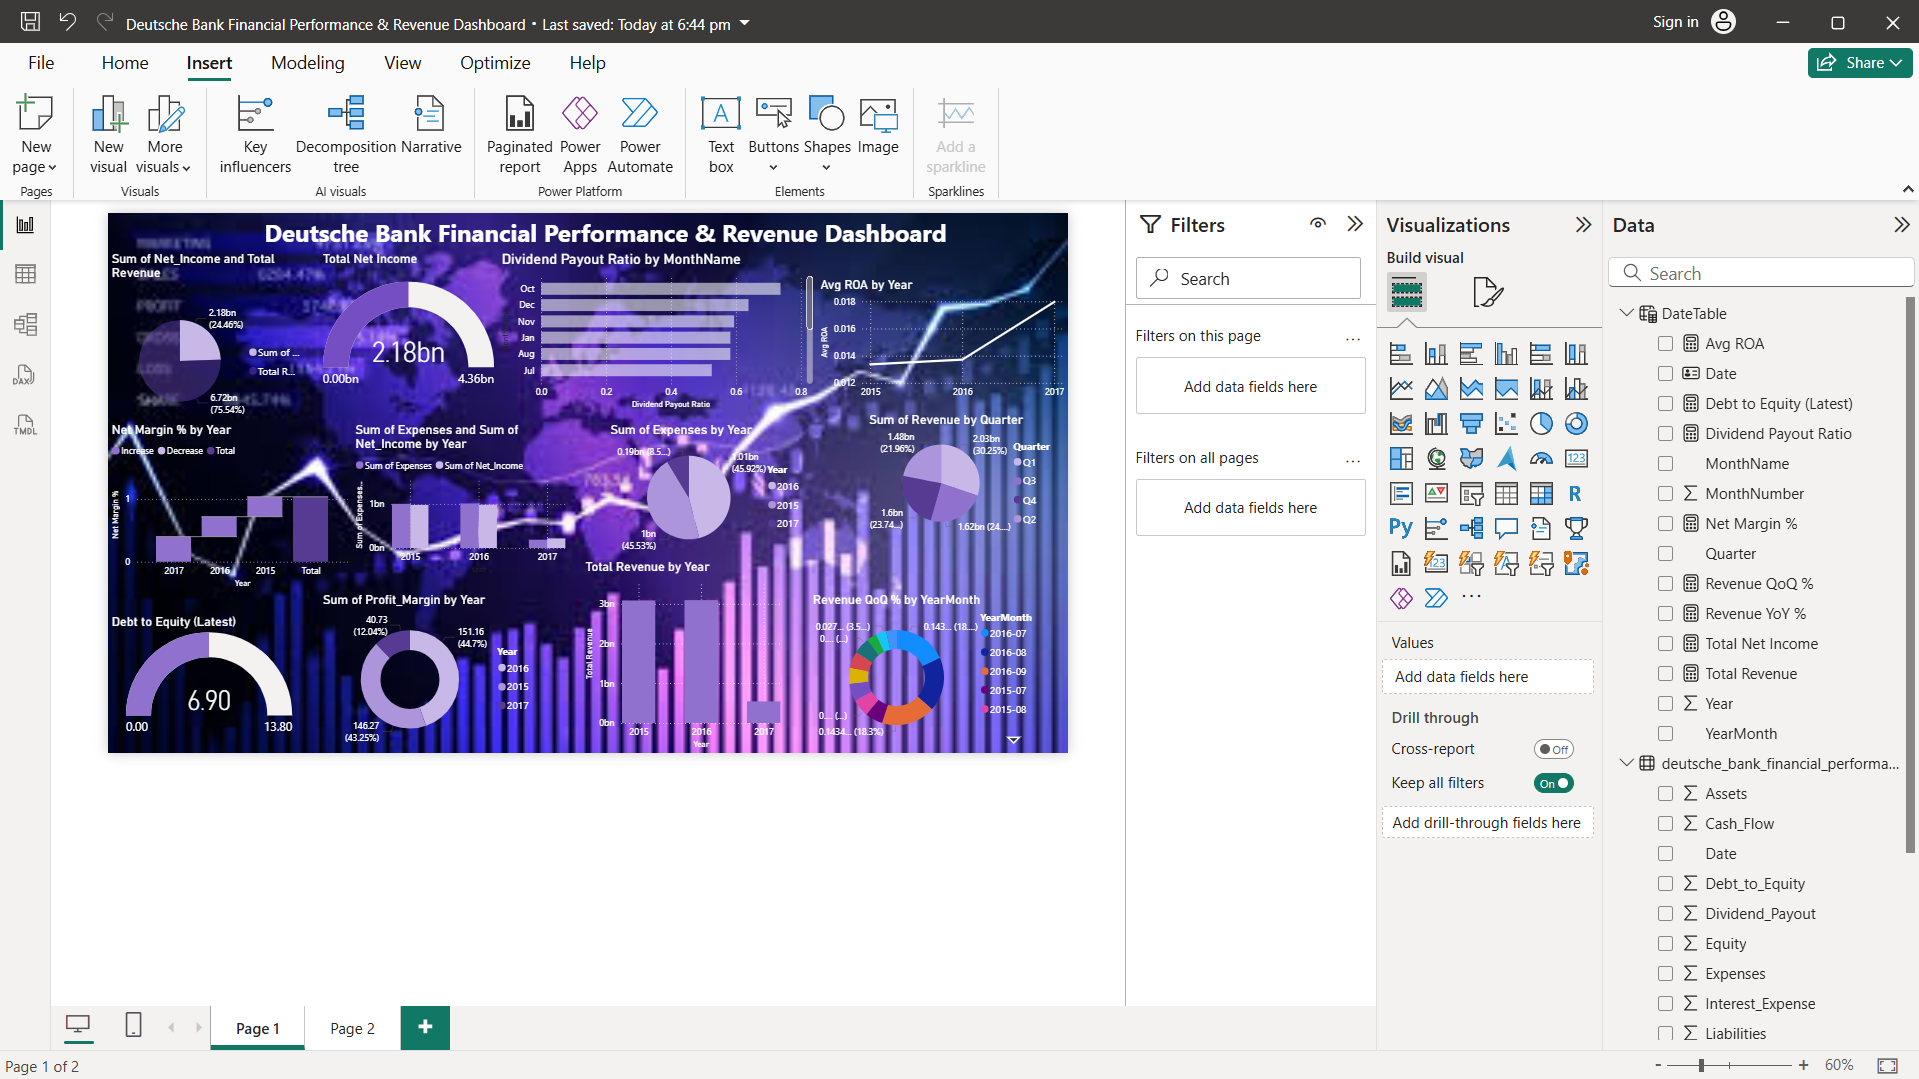

Layout of this report page (visuals, bound fields, positions):
{"tool":"powerbi","page":{"name":"Page 1","canvas":[1280,720],"ordinal":0},"visuals":[{"type":"donutChart","fields":{"Y":["DateTable.Revenue QoQ %"],"Category":["DateTable.YearMonth"]},"box":[935,505,320,210],"z":0},{"type":"pieChart","fields":{"Category":["deutsche_bank_financial_performance.Year"],"Y":["Sum(deutsche_bank_financial_performance.Expenses)"]},"box":[665,278.3,270,183.3],"z":1000},{"type":"pieChart","fields":{"Y":["Sum(deutsche_bank_financial_performance.Net_Income)","DateTable.Total Revenue"]},"box":[0,50,270,256.7],"z":2000},{"type":"pieChart","fields":{"Y":["Sum(deutsche_bank_financial_performance.Revenue)"],"Category":["DateTable.Quarter"]},"box":[1010,265,270,171.7],"z":3000},{"type":"waterfallChart","fields":{"Category":["deutsche_bank_financial_performance.Year"],"Y":["DateTable.Net Margin %"]},"box":[0,278.3,325,226.7],"z":4000},{"type":"gauge","fields":{"Y":["DateTable.Debt to Equity (Latest)"]},"box":[0,535,270,171.7],"z":5000},{"type":"barChart","fields":{"Y":["DateTable.Dividend Payout Ratio"],"Category":["DateTable.MonthName"]},"box":[520,50,425,216.7],"z":6000},{"type":"clusteredColumnChart","fields":{"Category":["deutsche_bank_financial_performance.Year"],"Y":["DateTable.Total Revenue"]},"box":[631.7,461.7,270,258.3],"z":7000},{"type":"lineChart","fields":{"Category":["deutsche_bank_financial_performance.Year"],"Y":["DateTable.Avg ROA"]},"box":[945,85,335,171.7],"z":8000},{"type":"gauge","fields":{"Y":["DateTable.Total Net Income"]},"box":[281.7,50,238.3,210],"z":9000},{"type":"donutChart","fields":{"Y":["Sum(deutsche_bank_financial_performance.Profit_Margin)"],"Category":["deutsche_bank_financial_performance.Year"]},"box":[281.7,505,293.3,215],"z":10000},{"type":"clusteredColumnChart","fields":{"Category":["deutsche_bank_financial_performance.Year"],"Y":["Sum(deutsche_bank_financial_performance.Expenses)","Sum(deutsche_bank_financial_performance.Net_Income)"]},"box":[325,278.3,290,208.3],"z":11000},{"type":"textbox","box":[163.3,0,1043.3,70],"z":11001}]}

Visuals, with their boxes on the page's 1280x720 design canvas (x1, y1, x2, y2). These are canvas units, not pixel positions in the 1919x1079 screenshot, which may show the page scaled, cropped or inside an application window:
donutChart - DateTable.Revenue QoQ % x DateTable.YearMonth: 935:505:1255:715
pieChart - deutsche_bank_financial_performance.Year x Sum(deutsche_bank_financial_performance.Expenses): 665:278:935:462
pieChart - Sum(deutsche_bank_financial_performance.Net_Income) x DateTable.Total Revenue: 0:50:270:307
pieChart - Sum(deutsche_bank_financial_performance.Revenue) x DateTable.Quarter: 1010:265:1280:437
waterfallChart - deutsche_bank_financial_performance.Year x DateTable.Net Margin %: 0:278:325:505
gauge - DateTable.Debt to Equity (Latest): 0:535:270:707
barChart - DateTable.Dividend Payout Ratio x DateTable.MonthName: 520:50:945:267
clusteredColumnChart - deutsche_bank_financial_performance.Year x DateTable.Total Revenue: 632:462:902:720
lineChart - deutsche_bank_financial_performance.Year x DateTable.Avg ROA: 945:85:1280:257
gauge - DateTable.Total Net Income: 282:50:520:260
donutChart - Sum(deutsche_bank_financial_performance.Profit_Margin) x deutsche_bank_financial_performance.Year: 282:505:575:720
clusteredColumnChart - deutsche_bank_financial_performance.Year x Sum(deutsche_bank_financial_performance.Expenses): 325:278:615:487
textbox: 163:0:1207:70
